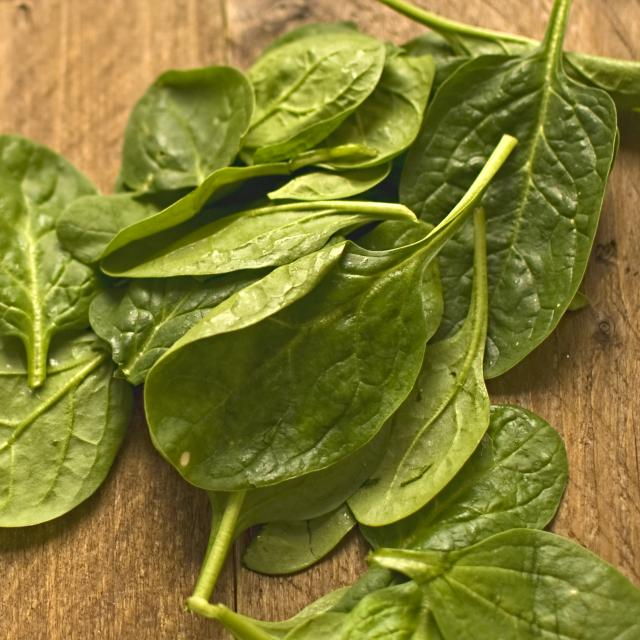spanich: (0, 14, 619, 541)
